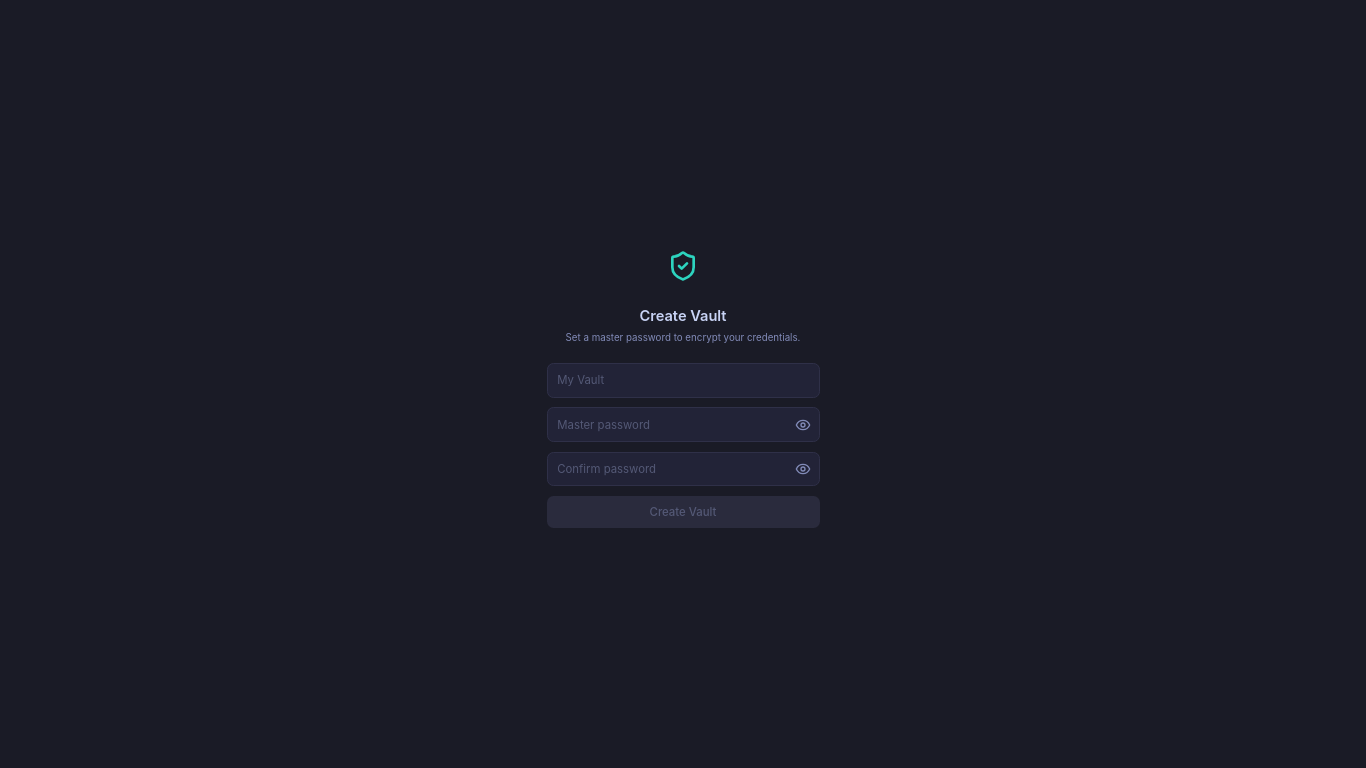
Scenario: VaultUnlock › FT-C-12: password confirmation mismatch shows error
Expected: the heading "Create Vault" is shown, [640,305,727,327]
Type "securepassword123" into the password field with placeholder "Master password" at (683, 425), box [546,407,820,442]
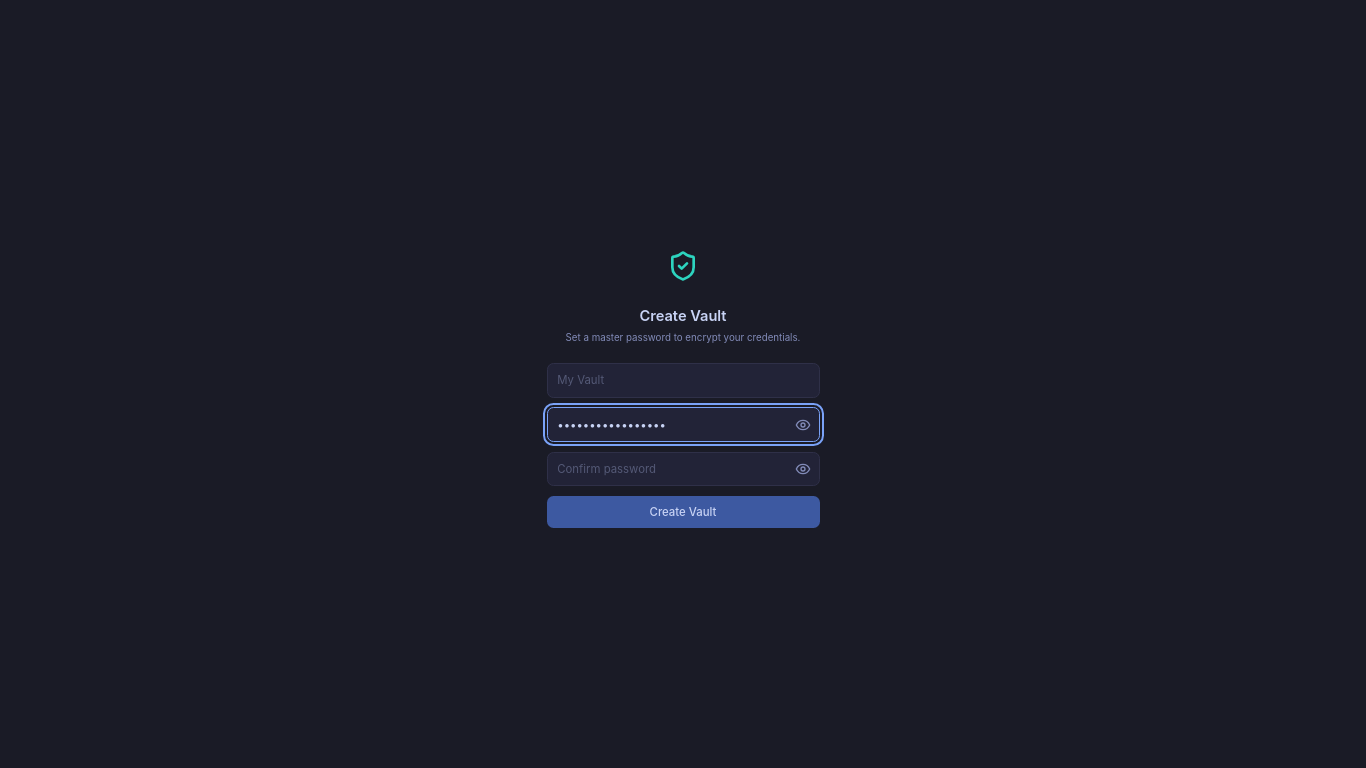
Type "differentpassword" into the password field with placeholder "Confirm password" at (683, 469), box [546,452,820,486]
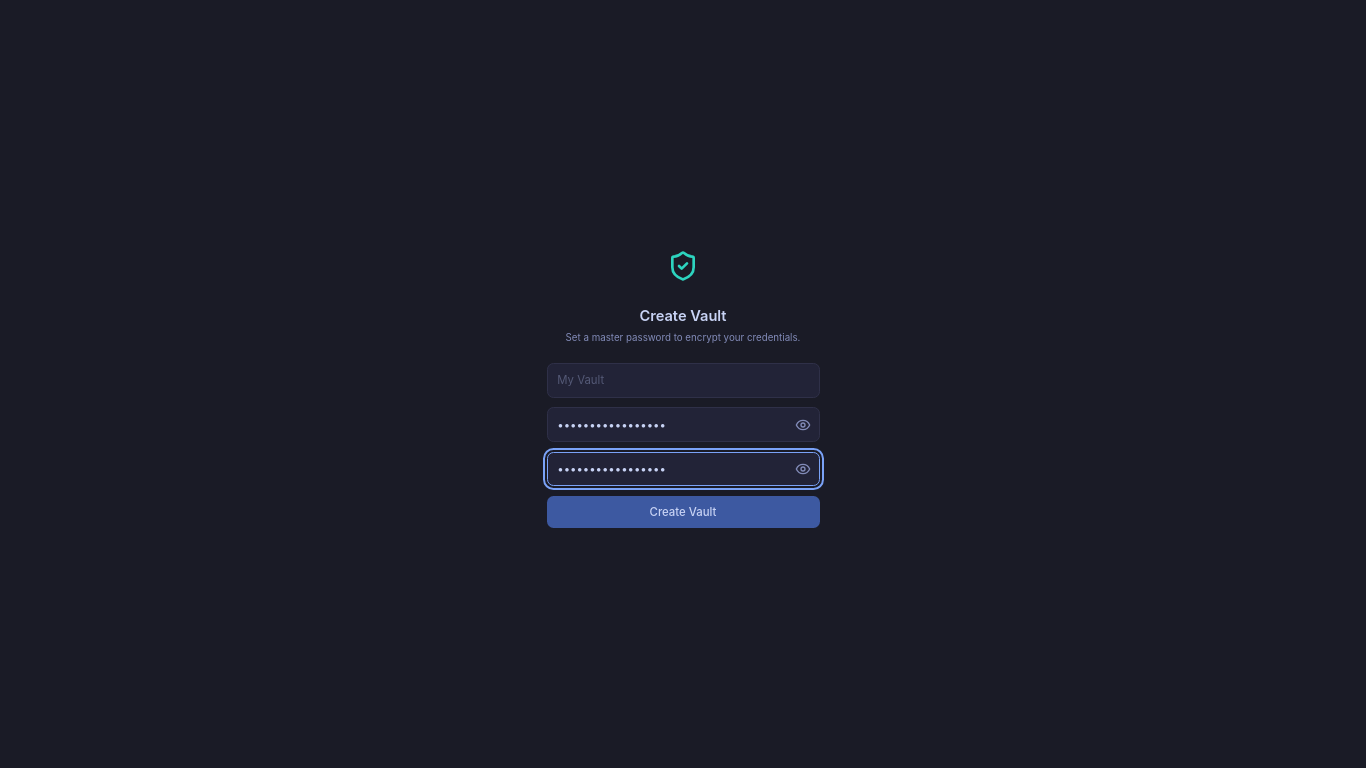
Click the button "Create Vault" at (683, 512), box [546,496,820,528]
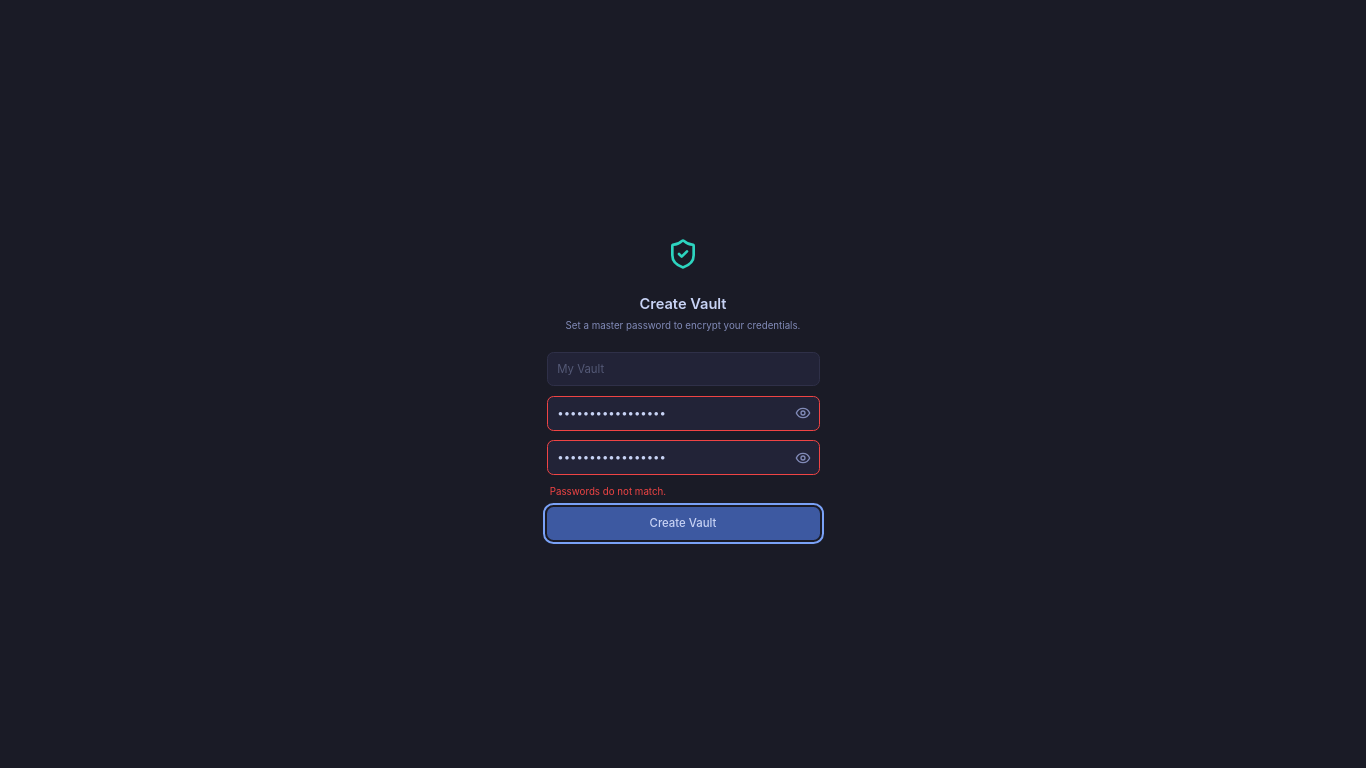
Result: the text "Passwords do not match." is shown at [550,486,666,496]
